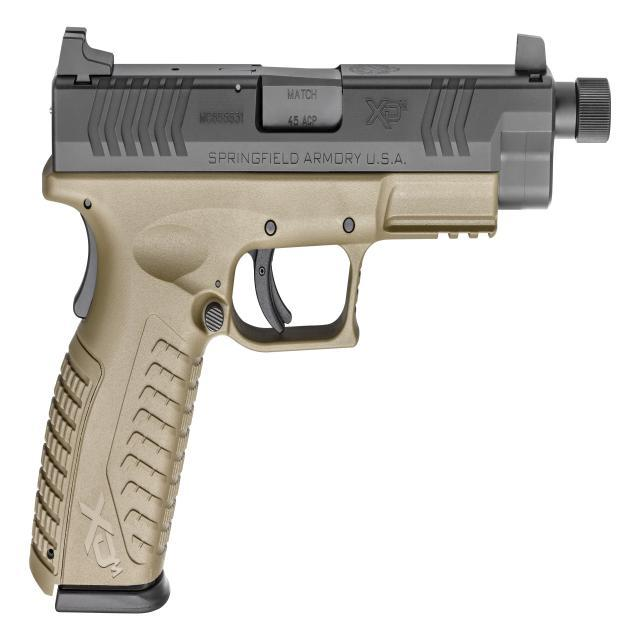Pistol: (13, 9, 618, 640)
